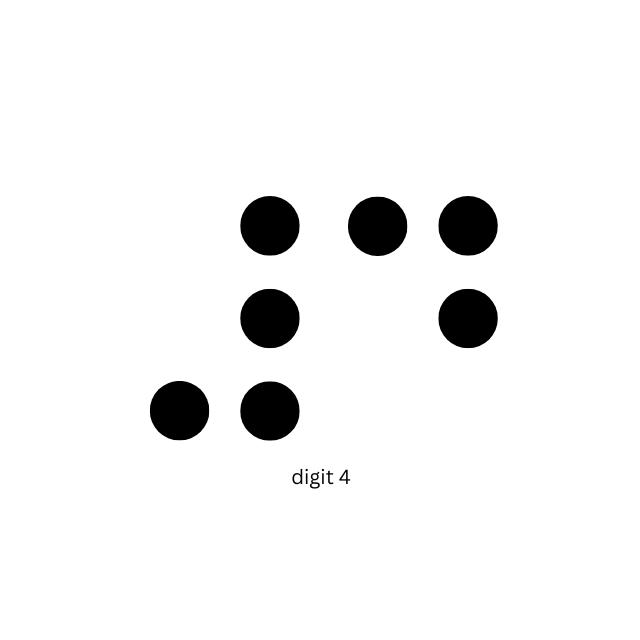digit_4: (348, 193, 499, 441)
number_sign: (147, 193, 302, 444)
